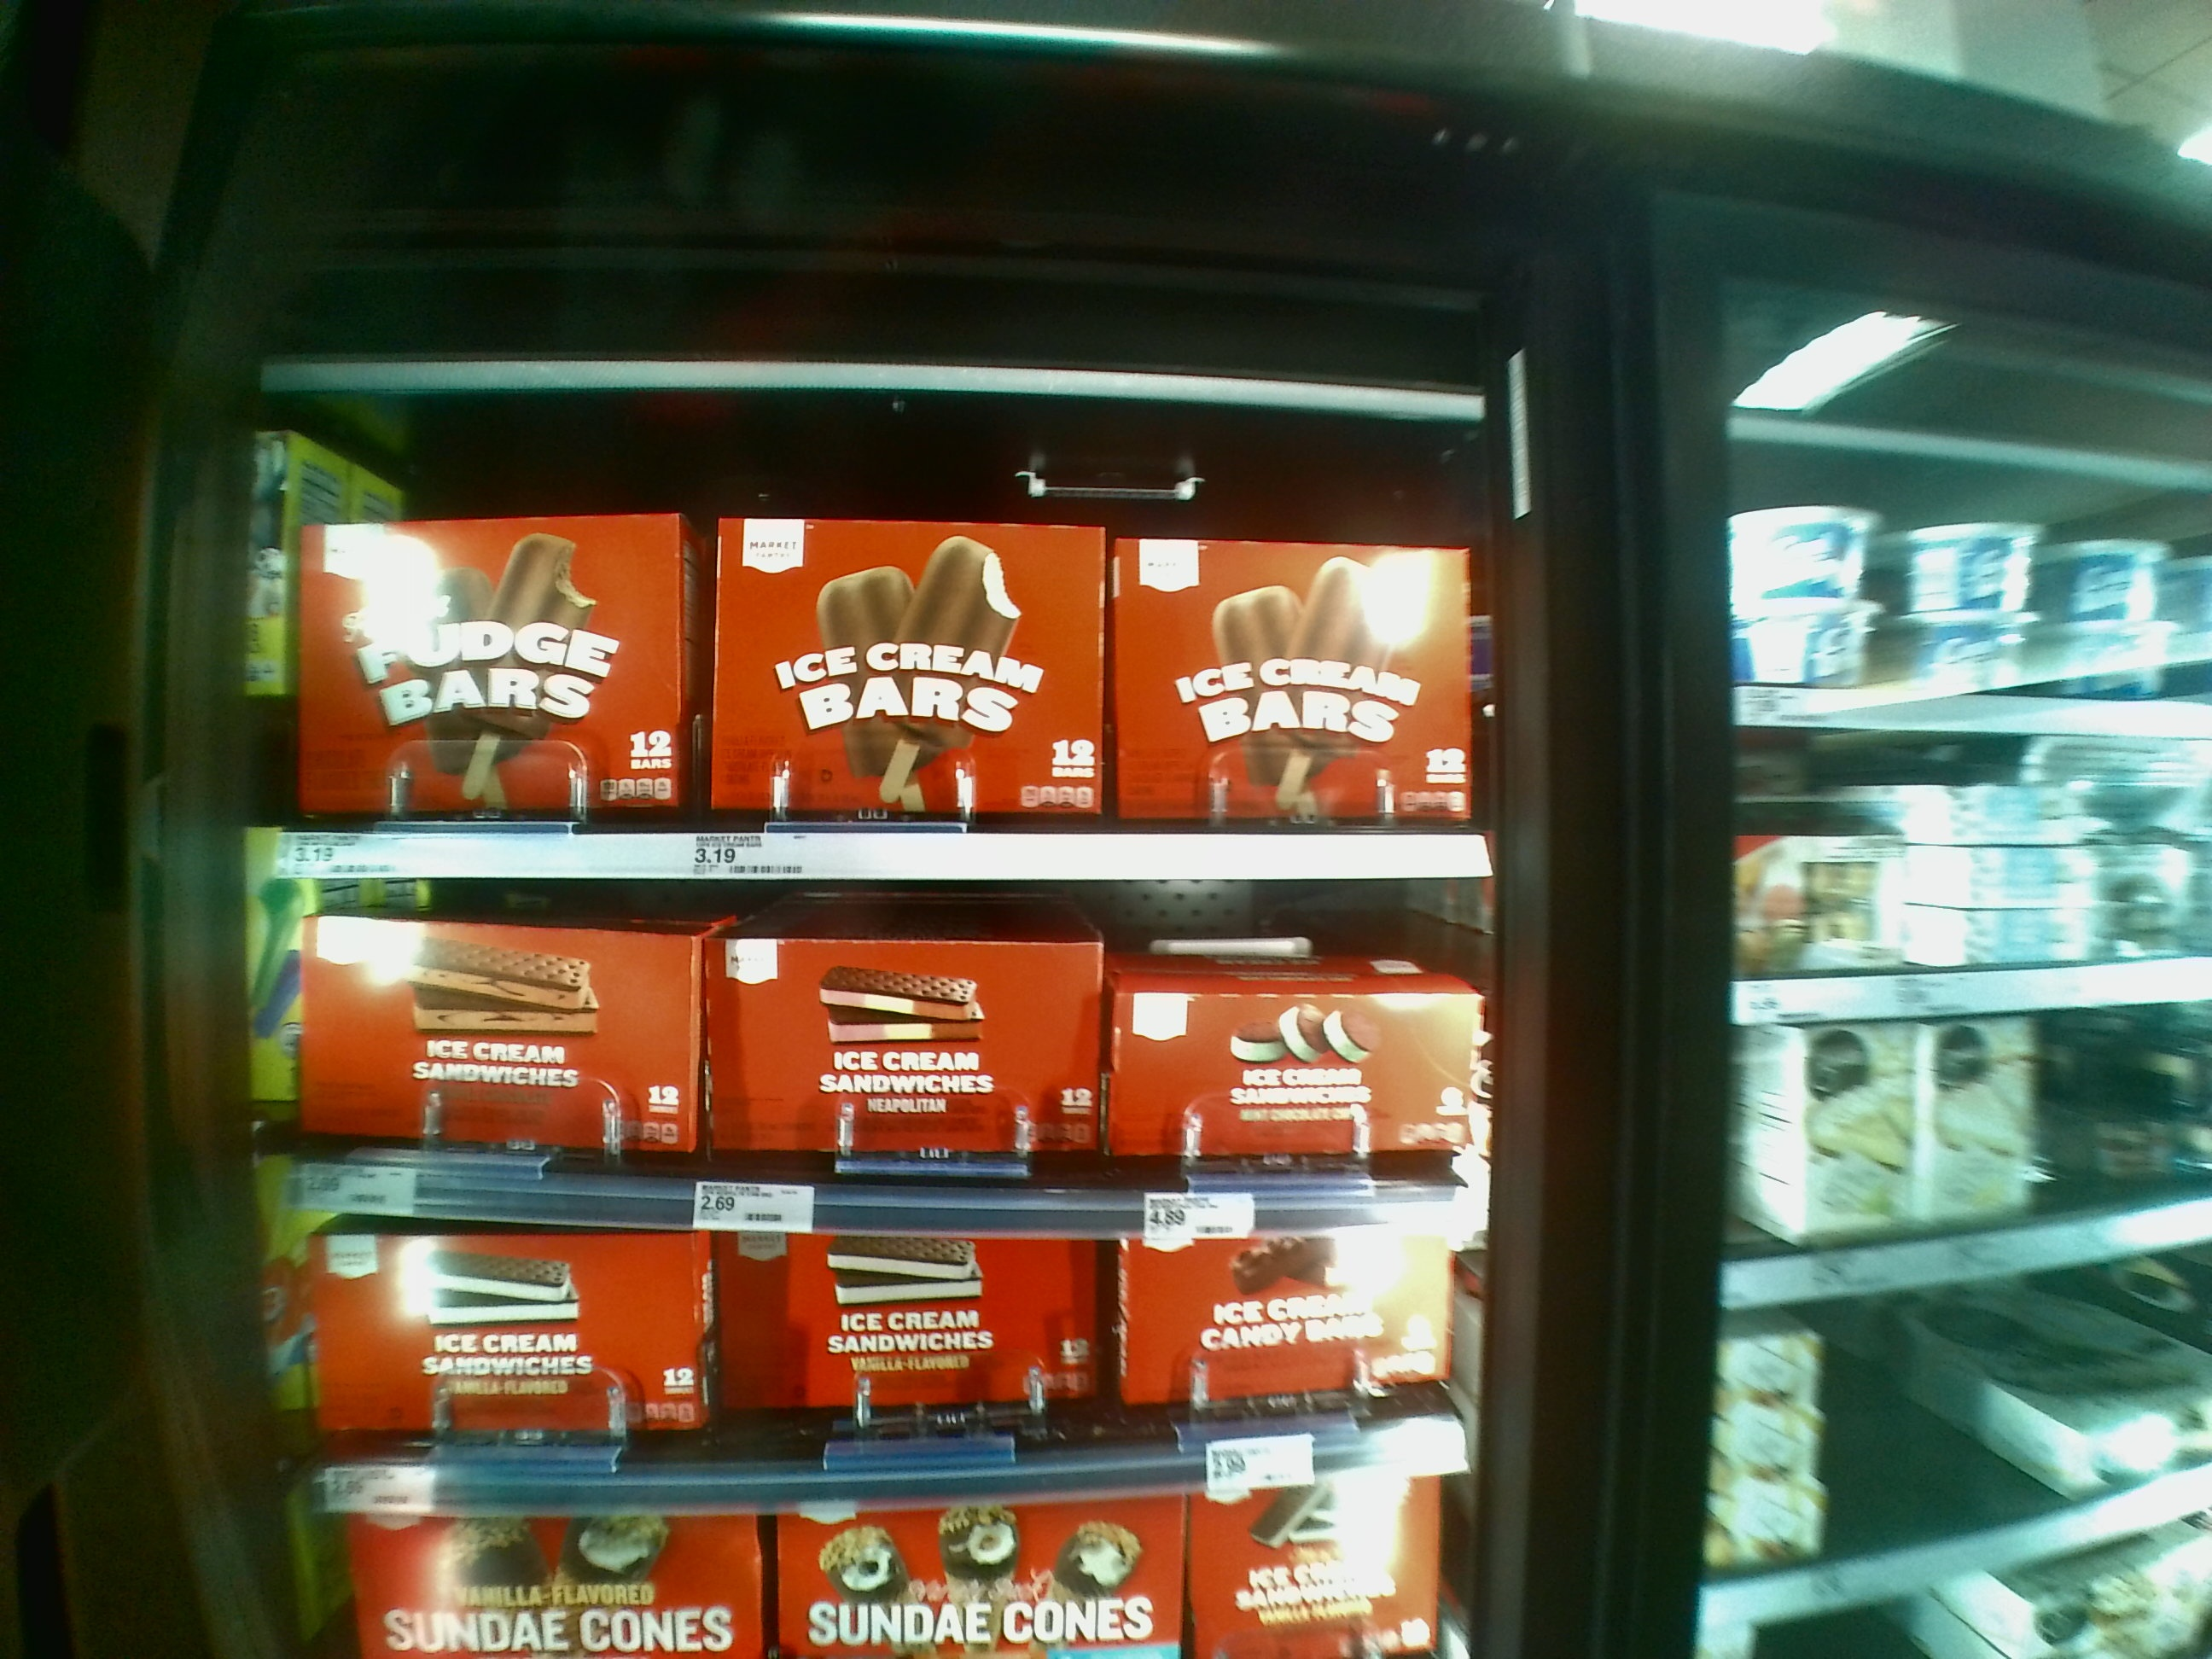shelf: (286, 404, 1480, 875), (287, 873, 1496, 1237), (314, 1232, 1491, 1500)
